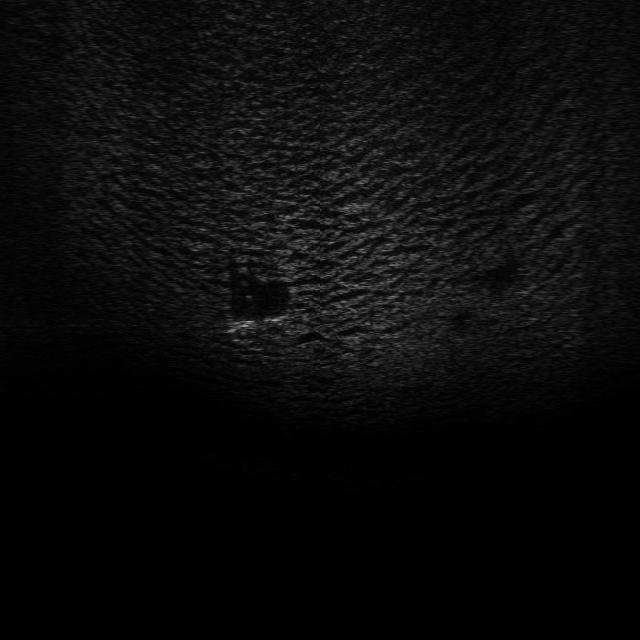plane: (223, 308, 286, 338)
